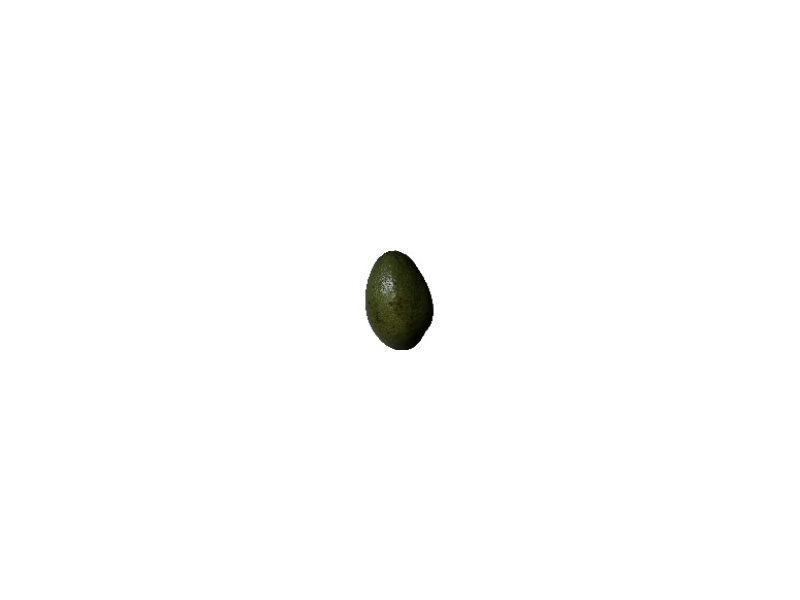abacate: (360, 246, 434, 350)
